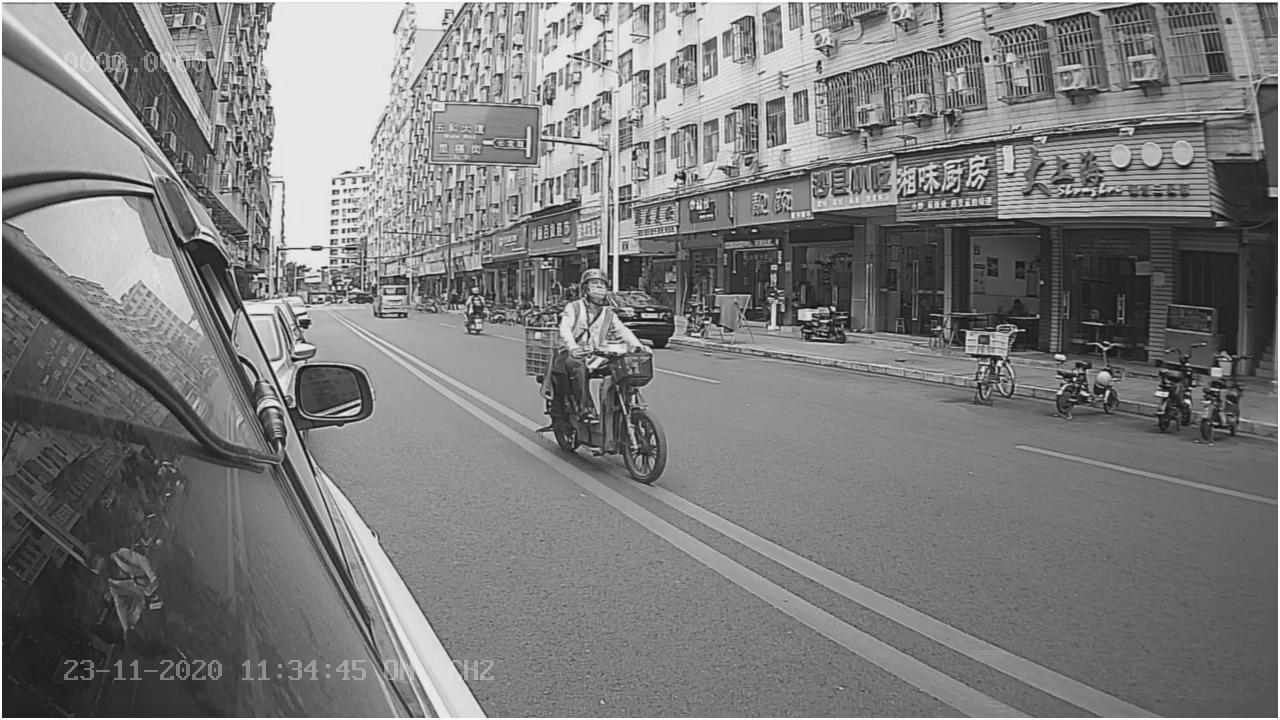person: (556, 264, 633, 357)
